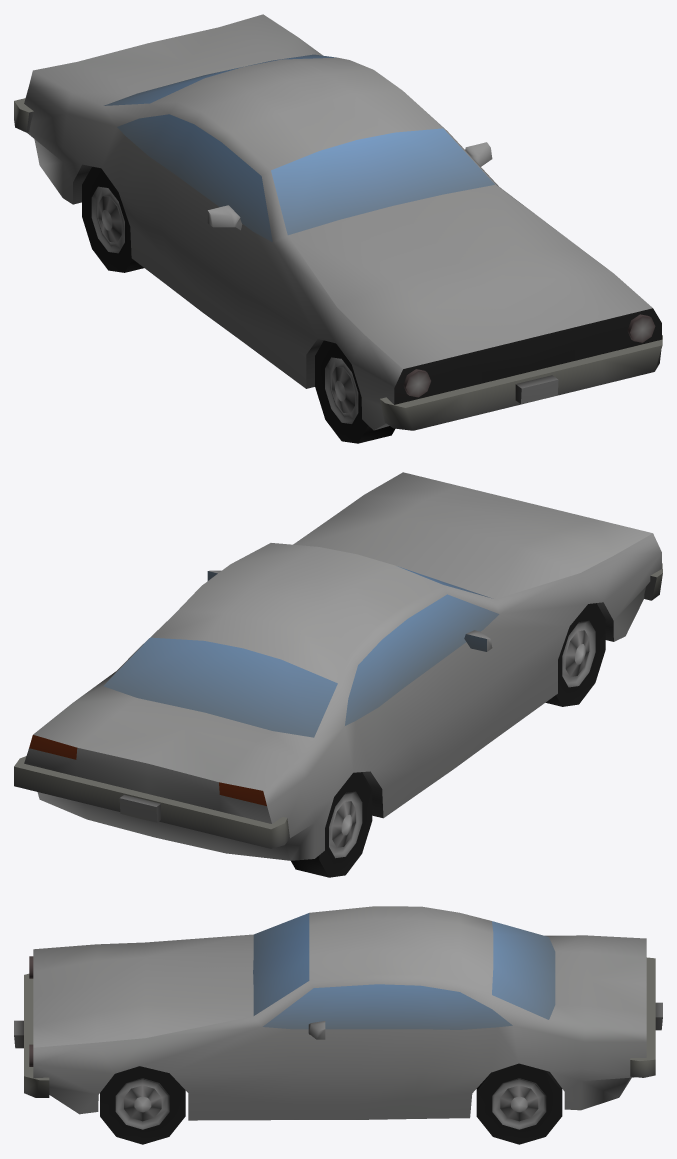
Rendered from vehicles-cars-coupe_v1.glb.
3 renders of one model, top to bottom at view 1: azimuth 30°, elevation 25°; view 2: azimuth 150°, elevation 25°; view 3: azimuth 270°, elevation 25°, orthographic. The views are drawn at different scales.
Visible parts, largest first — view 1: Coupe.001, Coupe; view 2: Coupe.001, Coupe; view 3: Coupe.001, Coupe.
Boxes of the visible parts, x1=… form: Coupe.001: x1=24, y1=14, x2=661, y2=443; Coupe: x1=14, y1=54, x2=662, y2=430; Coupe.001: x1=24, y1=472, x2=661, y2=877; Coupe: x1=14, y1=563, x2=662, y2=858; Coupe.001: x1=14, y1=906, x2=662, y2=1144; Coupe: x1=24, y1=913, x2=655, y2=1129.
Bounding box in the file's own units: 1.81 × 1.27 × 4.5.
